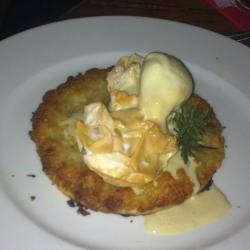apple_pie: (35, 58, 235, 228)
icecream: (129, 49, 202, 138)
